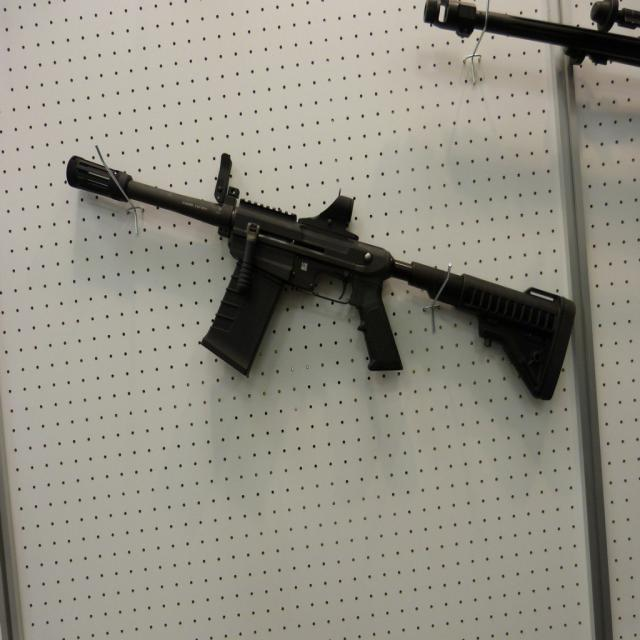firearm: (65, 152, 576, 403), (419, 0, 640, 75)
